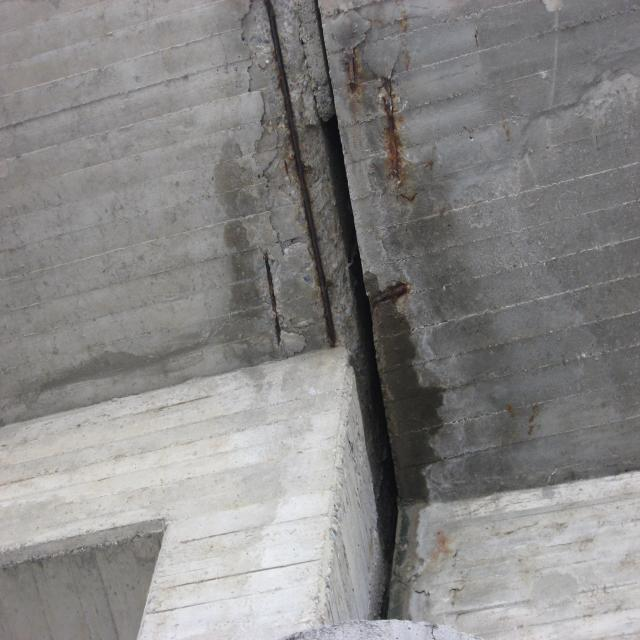corrosion: (237, 0, 427, 355), (500, 395, 544, 443), (423, 525, 460, 573)
